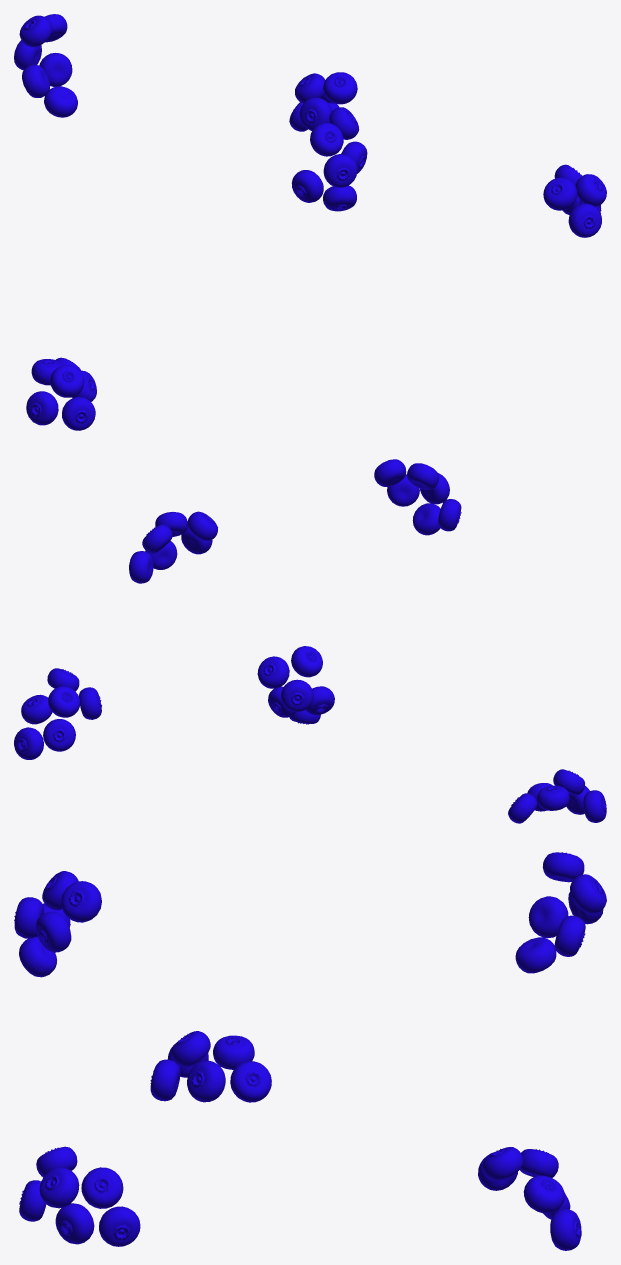
Rendered from Blueberry_Scattered.fbx.
3 renders of one model, top to bottom at view 1: azimuth 30°, elevation 25°; view 2: azimuth 150°, elevation 25°; view 3: azimuth 270°, elevation 25°, orthographic. The views are drawn at different scales.
Parts seen in each view (by area): view 1: Sphere.029; view 2: Sphere.029; view 3: Sphere.029.
Boxes of the visible parts, box(x1,y1,x2,y2) form: Sphere.029: box(14, 14, 606, 430); Sphere.029: box(14, 459, 606, 823); Sphere.029: box(14, 852, 606, 1250).
Size of the model in its own units: 116 by 60.92 by 92.8.
